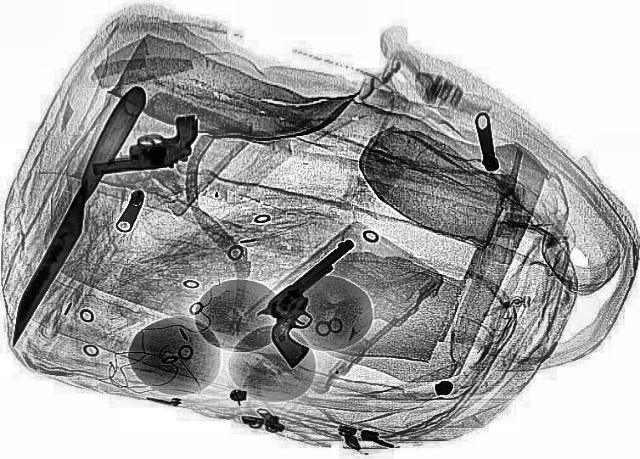Gun: (226, 238, 412, 366), (80, 114, 208, 174)
Knife: (0, 83, 152, 344)
